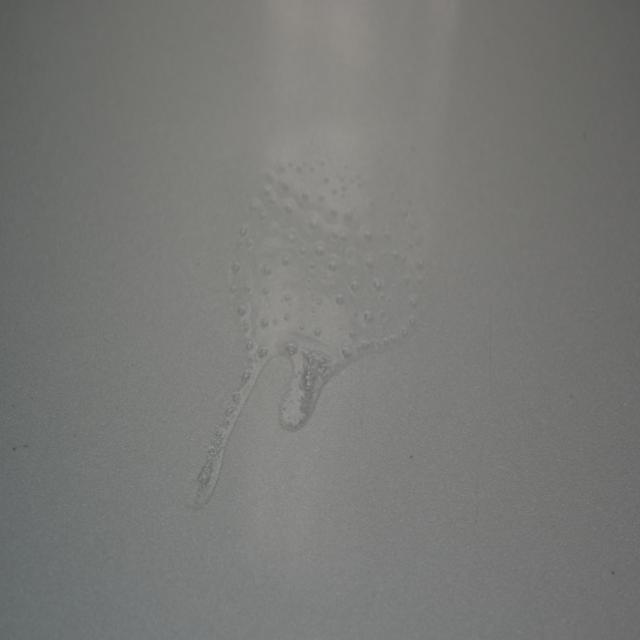runs: (181, 134, 458, 512)
